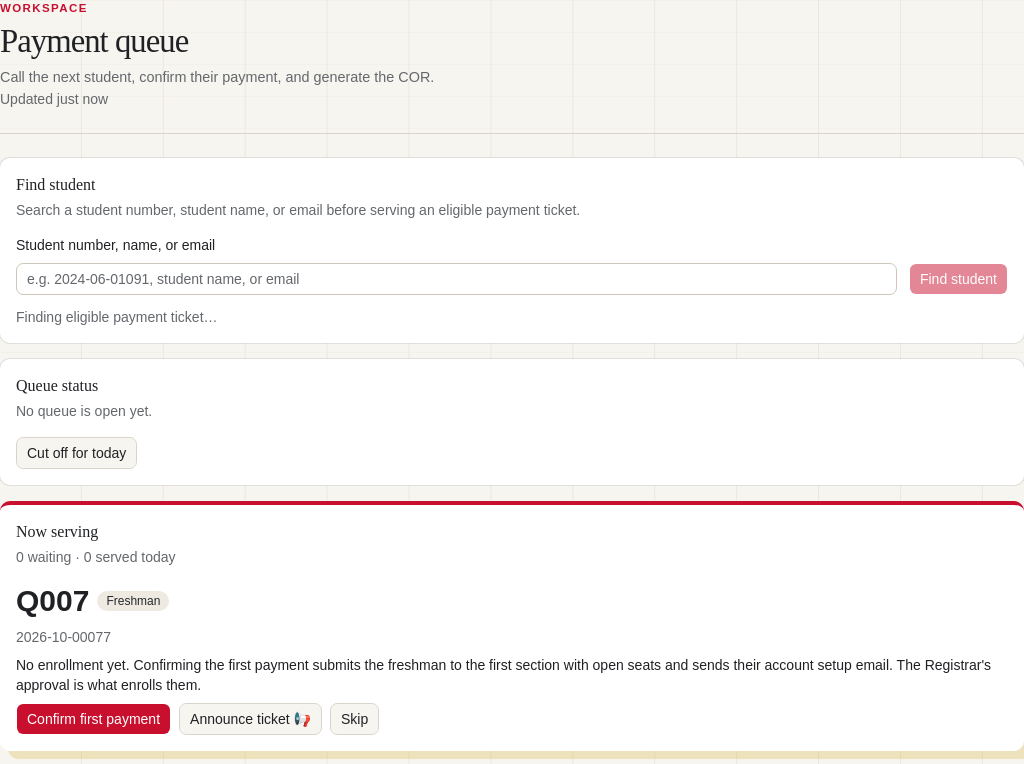
it: AccountingPaymentWorkspace › freshman tickets › confirms the first payment and tells the Cashier which section the freshman is enrolled in
The width and height of the screenshot is (1024, 764).
Click the button "Confirm first payment".
click(94, 719)  # box [16, 703, 171, 735]
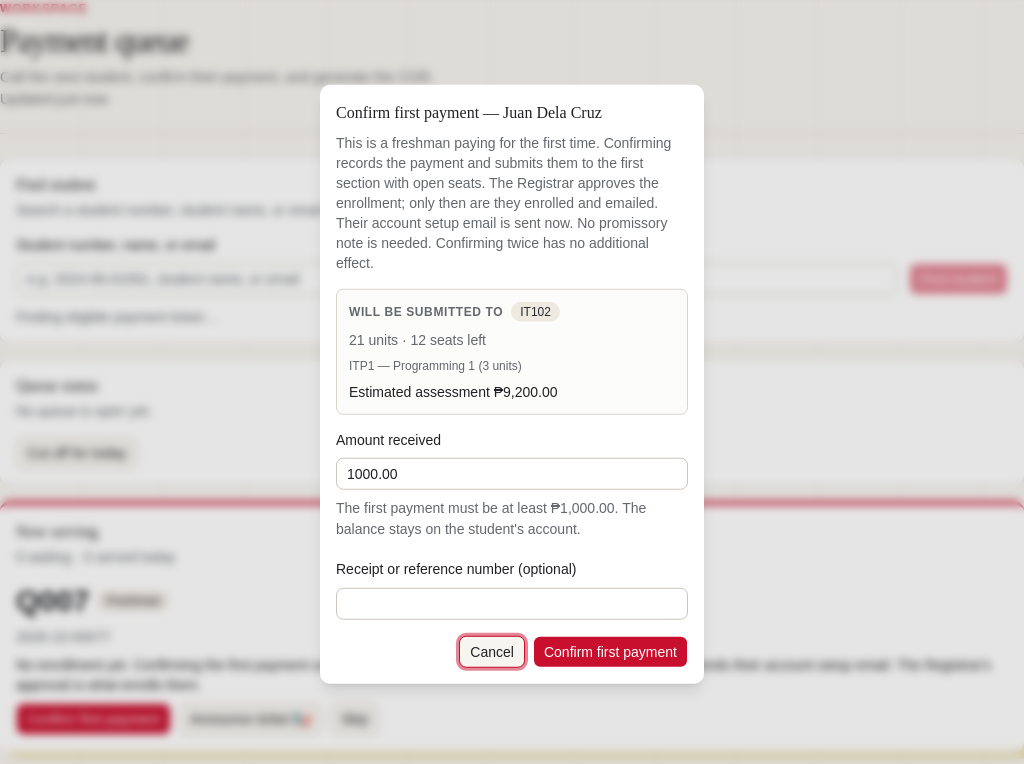
Check: the icon "IT102" is shown, box [511, 302, 560, 322]
Clear the field labelled "Amount received" at (512, 474), box [336, 458, 688, 490]
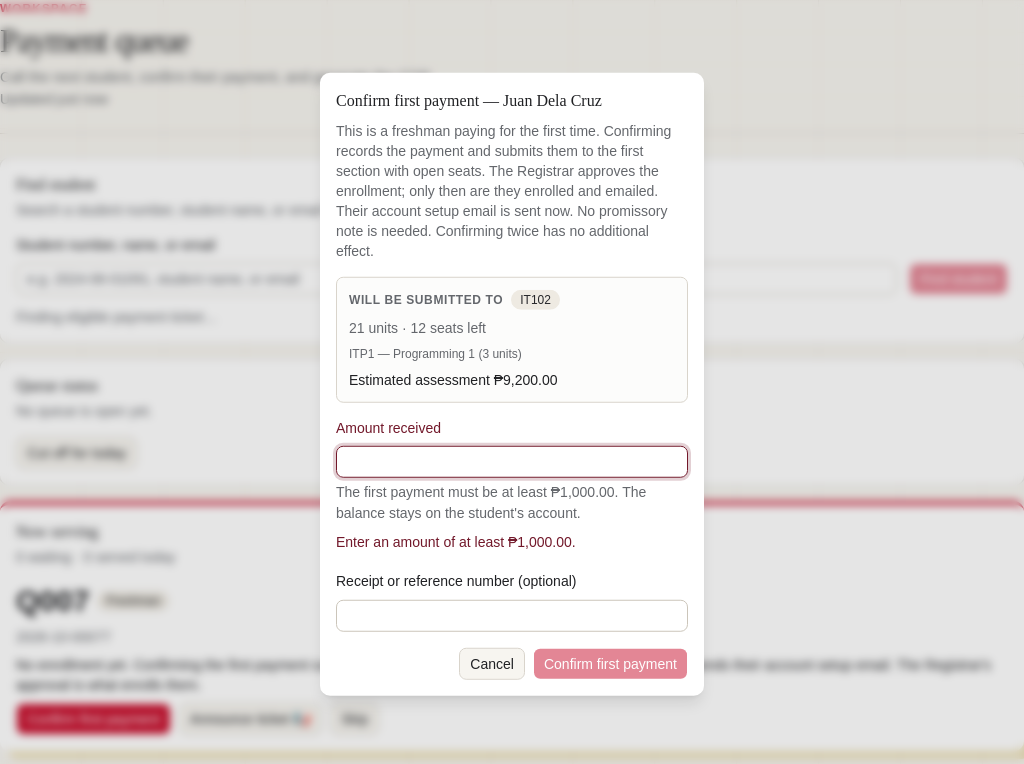
Type "1500" into the field labelled "Amount received".
click(512, 462); type("1500")  # box [336, 446, 688, 478]
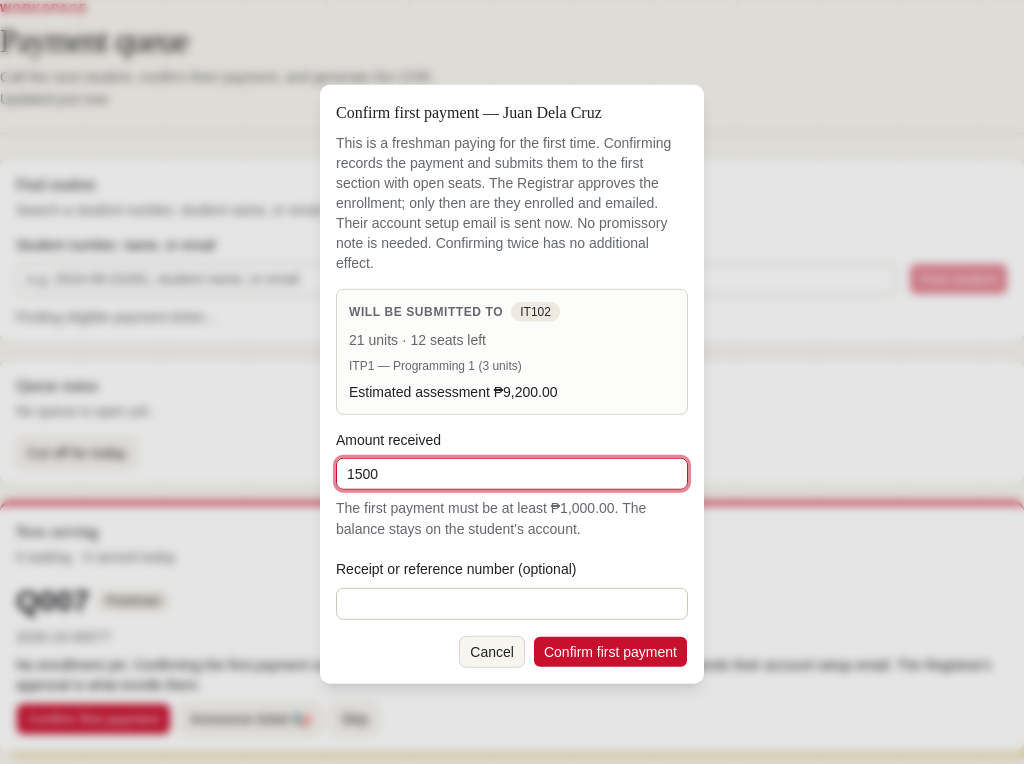
Type "OR-5" into the field labelled "Receipt or reference number (optional)".
click(512, 603); type("OR-5")  # box [336, 587, 688, 619]
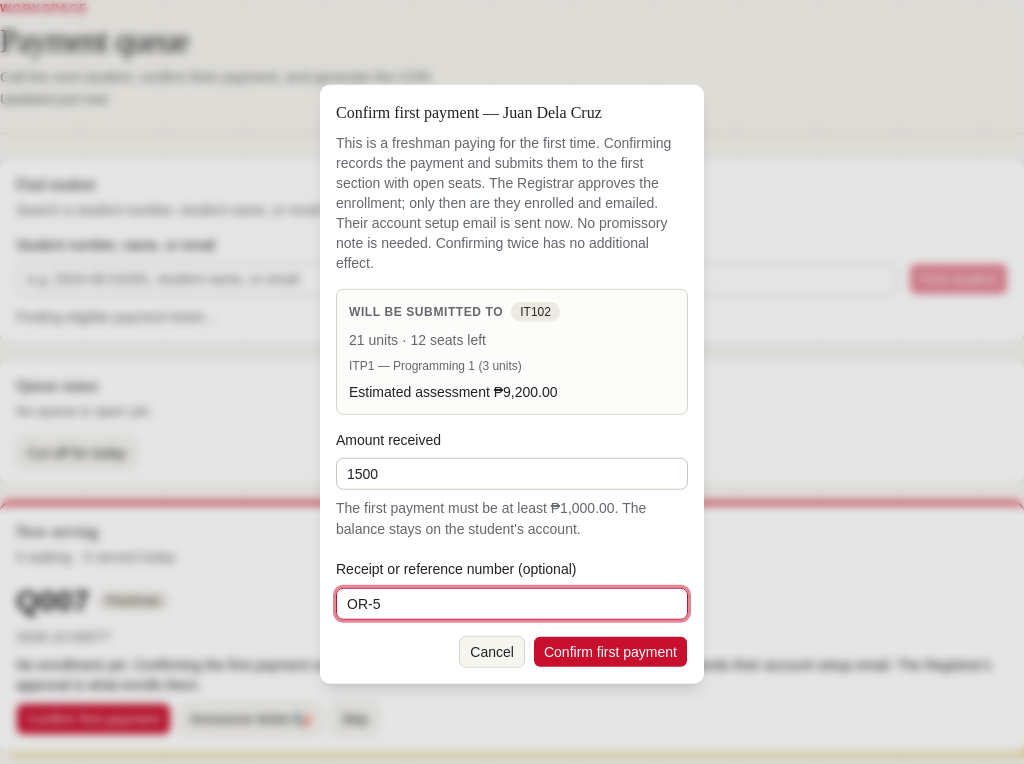
Click the button "Confirm first payment".
click(610, 651)  # box [533, 635, 688, 667]
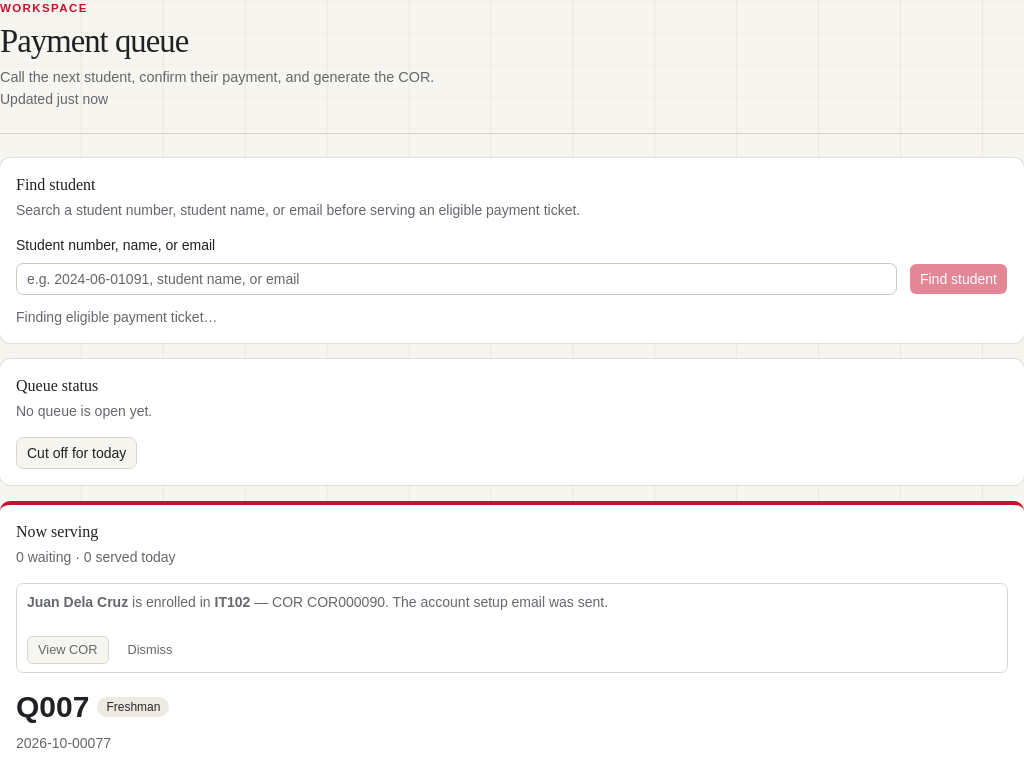
Check: the text "IT102" is shown, box [214, 594, 250, 610]
Check: the text "is enrolled in" is shown, box [128, 594, 211, 610]
Check: the text "COR000090" is shown, box [250, 594, 385, 610]
